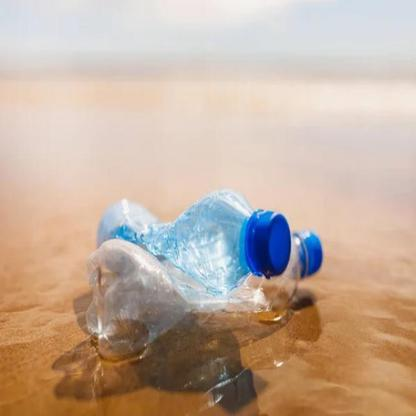plastic bottle: (76, 229, 325, 353), (85, 190, 293, 286)
